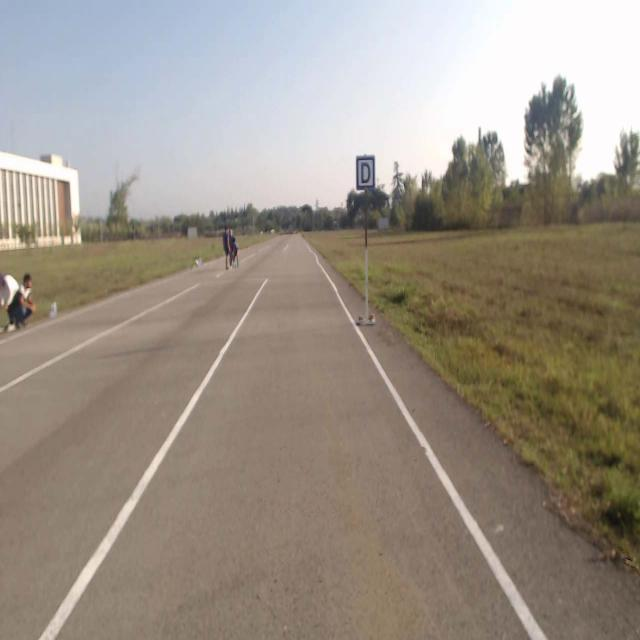durak: (356, 155, 375, 189)
